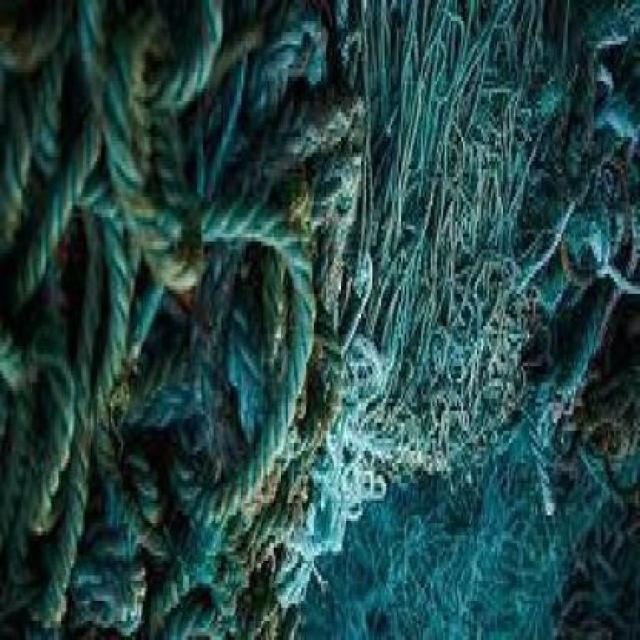net: (1, 4, 574, 636)
